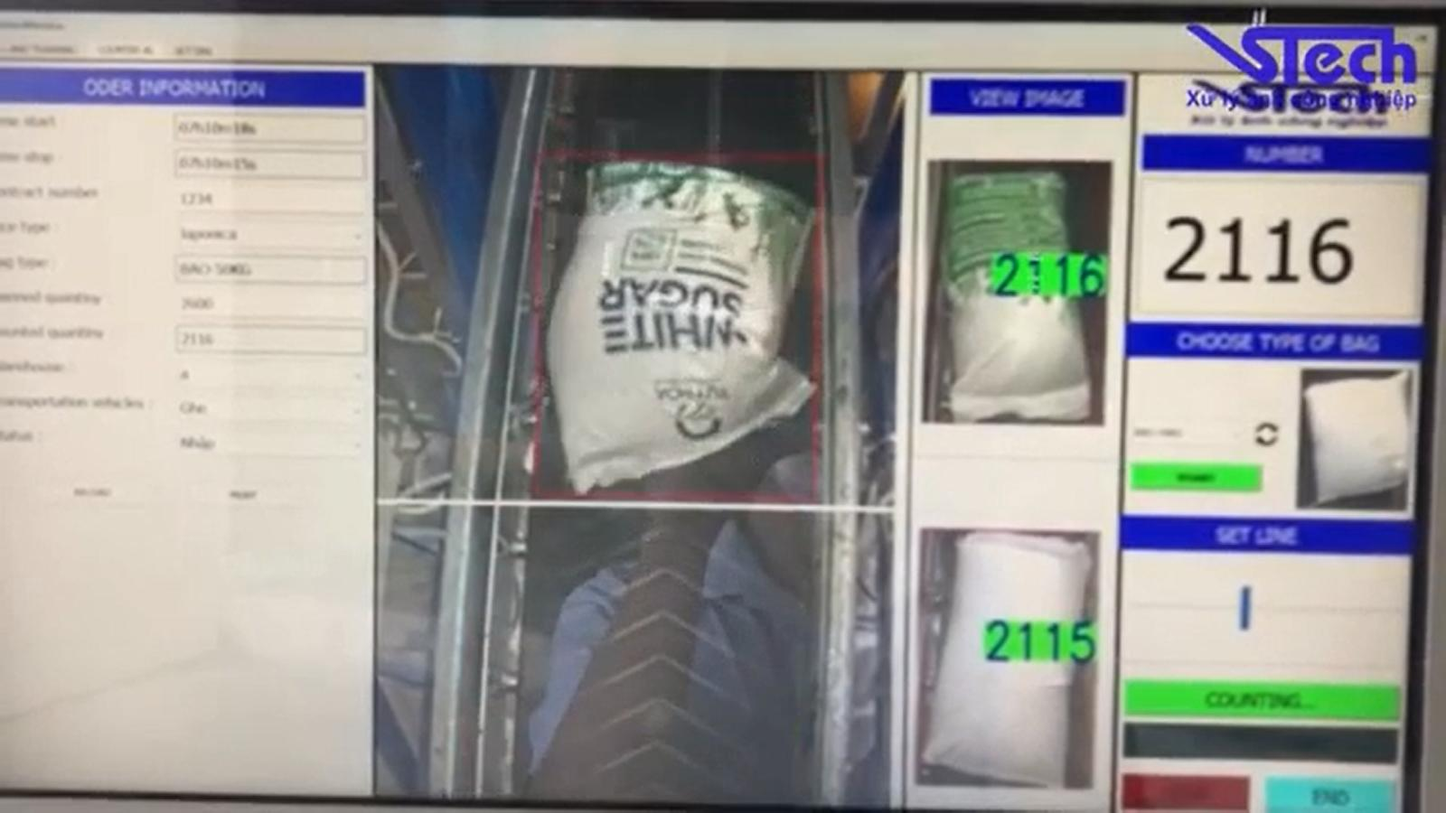rice-bag: (547, 162, 812, 490), (934, 162, 1104, 423), (921, 531, 1089, 787)
